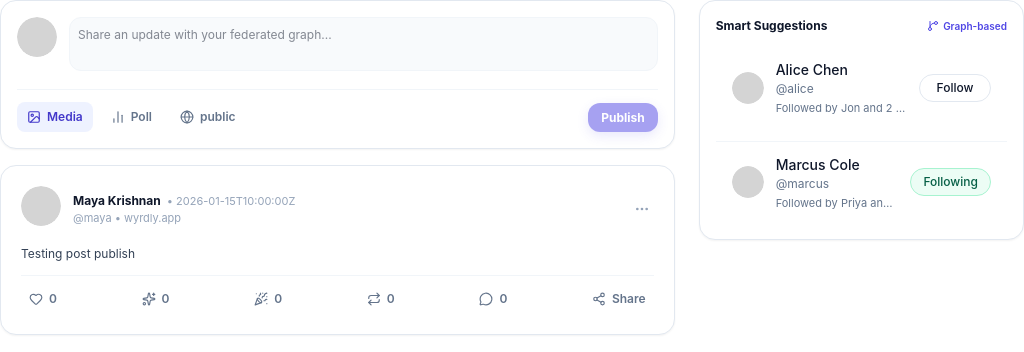
Test case: FeedPage Component › reactions (#123) › LIKE → CELEBRATE → LIKE leaves LIKE active with consistent counters
Check: the element with test id "post-card-post-1" is shown, box [0,165,675,335]
Step 1. Click the button with test id "like-btn" → [43, 299], box [21,284,65,314]
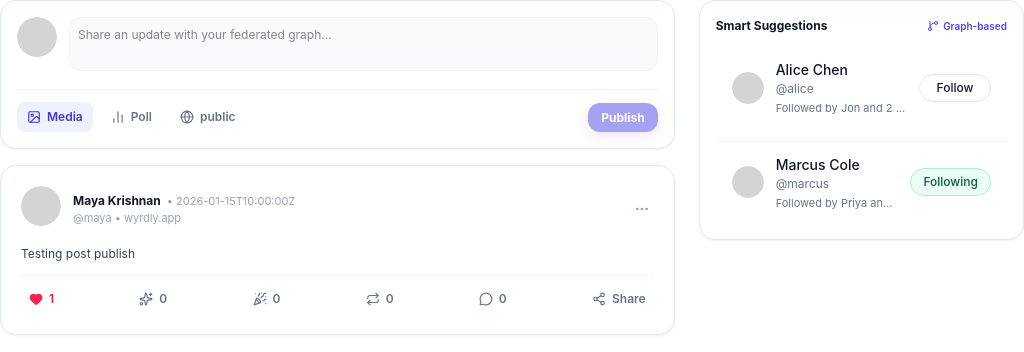
Step 2. Click the button with test id "celebrate-btn" → [266, 299], box [244,284,288,314]
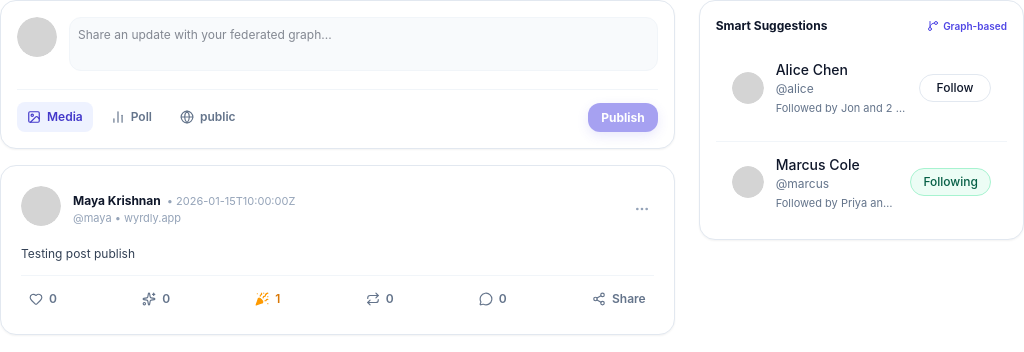
Check: the button with test id "like-btn" reads "0"
Check: the button with test id "celebrate-btn" reads "1", box [247,284,288,314]
Step 3. Click the button with test id "like-btn" → [43, 299], box [21,284,65,314]
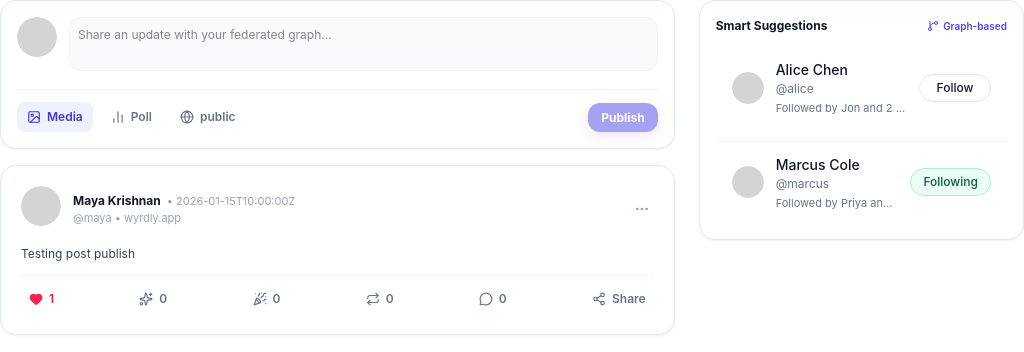
Check: the button with test id "like-btn" reads "1", box [21,284,62,314]
Check: the button with test id "celebrate-btn" reads "0", box [244,284,288,314]
